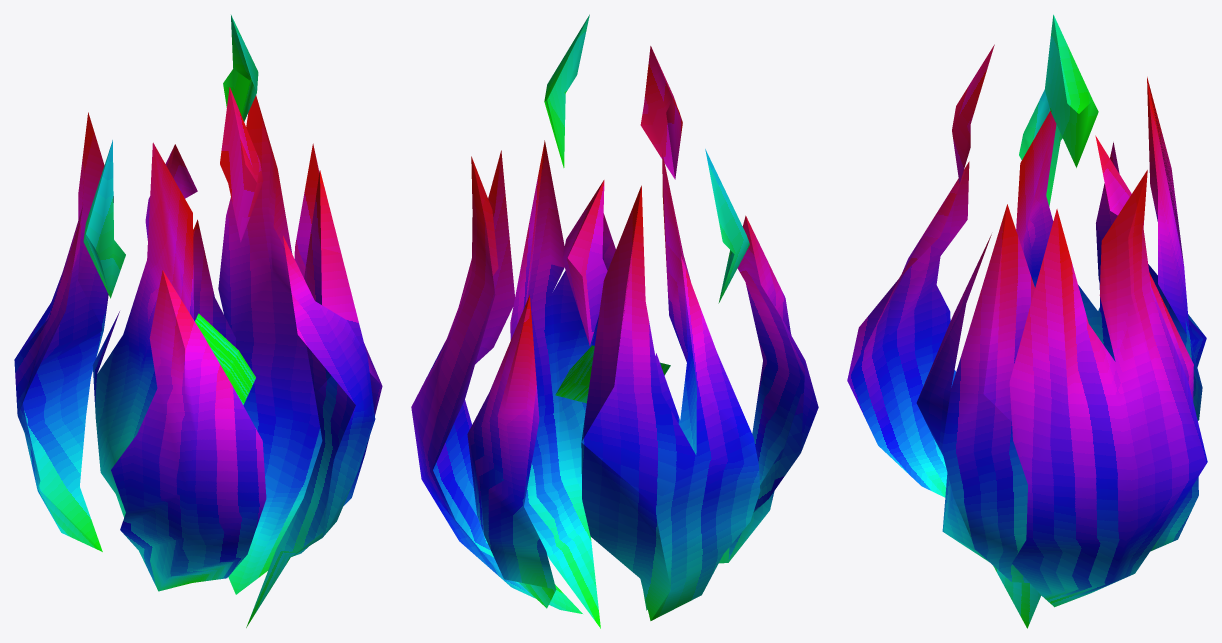
Rendered from proud_soul.obj.
3 renders of one model, left to right at view 1: azimuth 30°, elevation 25°; view 2: azimuth 150°, elevation 25°; view 3: azimuth 270°, elevation 25°, orthographic. The views are drawn at different scales.
Visible parts, largest first — view 1: obj21, Trapezohedron, SphereBase1, ingotoSet, tinySet, obj15, SphereBase, Crystal, obj5, obj12, CrystalSet, soulSet (+16 smaller); view 2: obj21, Trapezohedron, SphereBase1, obj14, obj17, Crystal, soulSet, obj11, TrapezohedronBase1, obj19, tinySet, obj12 (+16 smaller); view 3: obj21, obj17, Tiny, obj18, SphereBase, tinySet, obj20, obj9, SphereBase1, obj16, soulSet, Trapezohedron (+20 smaller).
Part boxes in pixels (x1,y1,x2,y2): obj21: (14,24,381,613); Trapezohedron: (218,216,272,336); SphereBase1: (320,170,367,356); ingotoSet: (283,236,355,404); tinySet: (235,275,301,344); obj15: (315,301,367,404); SphereBase: (304,170,330,392); Crystal: (226,152,272,273); obj5: (86,140,113,254); obj12: (277,498,325,552); CrystalSet: (220,87,245,183); soulSet: (303,441,336,513); obj21: (411,20,818,620); Trapezohedron: (433,295,494,469); SphereBase1: (528,140,564,302); obj14: (550,529,600,628); obj17: (459,150,514,310); Crystal: (442,213,495,358); soulSet: (524,410,559,506); obj11: (559,401,586,479); TrapezohedronBase1: (567,180,604,276); obj19: (552,292,598,354); tinySet: (411,352,441,469); obj12: (524,480,559,559); obj21: (847,21,1207,617); obj17: (1009,209,1088,406); Tiny: (1026,470,1132,539); obj18: (1028,403,1132,484); SphereBase: (983,204,1034,421); tinySet: (1119,384,1207,470); obj20: (942,450,1027,501); obj9: (942,389,1016,453); SphereBase1: (951,204,1007,394); obj16: (1009,382,1067,484); soulSet: (954,497,1027,552); Trapezohedron: (1151,287,1207,461).
Bounding box in the file's own units: 0.8331 × 1.47 × 0.7834.
